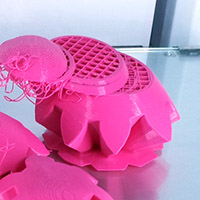3dplayershift: (118, 73, 146, 100), (63, 59, 87, 83), (52, 39, 79, 58), (117, 50, 136, 72)
3dpstringing: (3, 79, 60, 107), (3, 53, 40, 78), (4, 137, 19, 158)
3dptoplayergaps: (87, 39, 116, 80)
